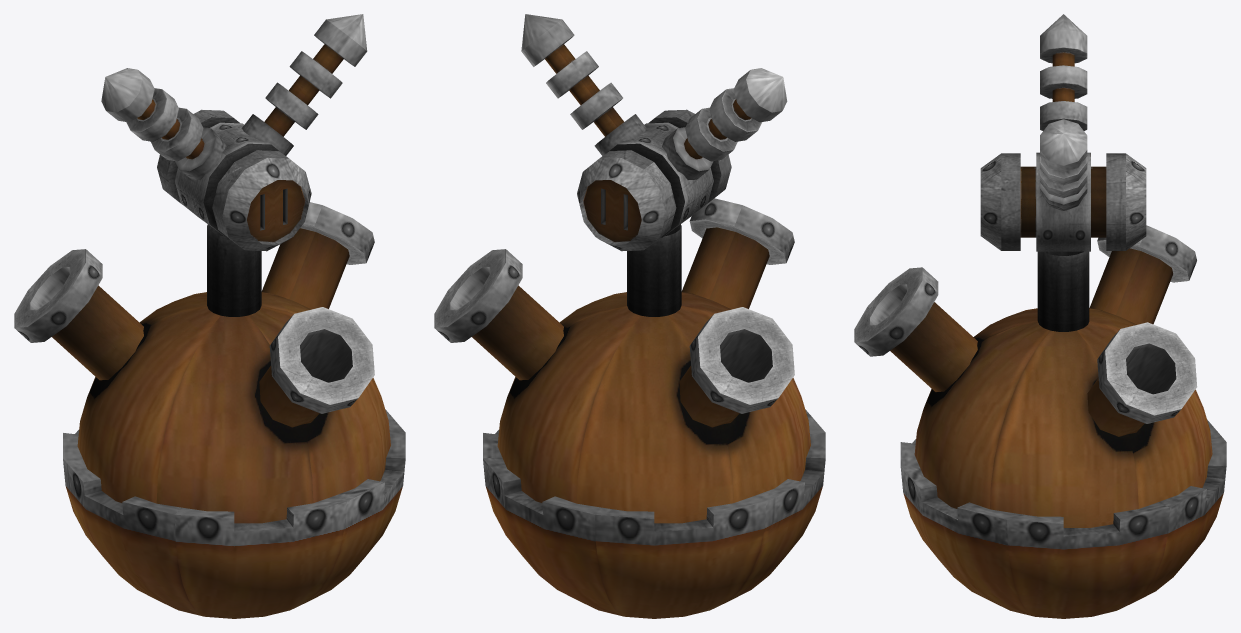
The model's file is TAC215_PBall.fbx.
The picture shows the model from 3 angles, left to right: view 1: azimuth 30°, elevation 25°; view 2: azimuth 150°, elevation 25°; view 3: azimuth 270°, elevation 25°; orthographic projection. The views are drawn at different scales.
Visible parts, largest first — view 1: pball_mesh; view 2: pball_mesh; view 3: pball_mesh.
Boxes of the visible parts, x1=… form: pball_mesh: x1=14, y1=14, x2=405, y2=618; pball_mesh: x1=434, y1=14, x2=825, y2=618; pball_mesh: x1=854, y1=14, x2=1226, y2=618.
Bounding box in the file's own units: 23.01 × 35.36 × 22.49.
1 material, 1 textured.
